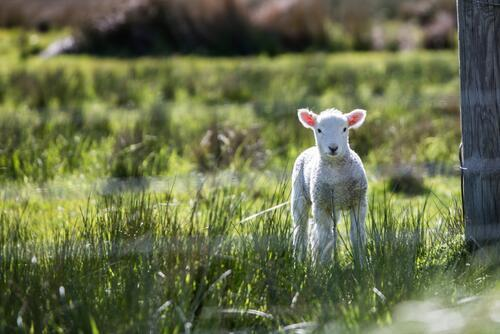sheep: (290, 108, 368, 271)
